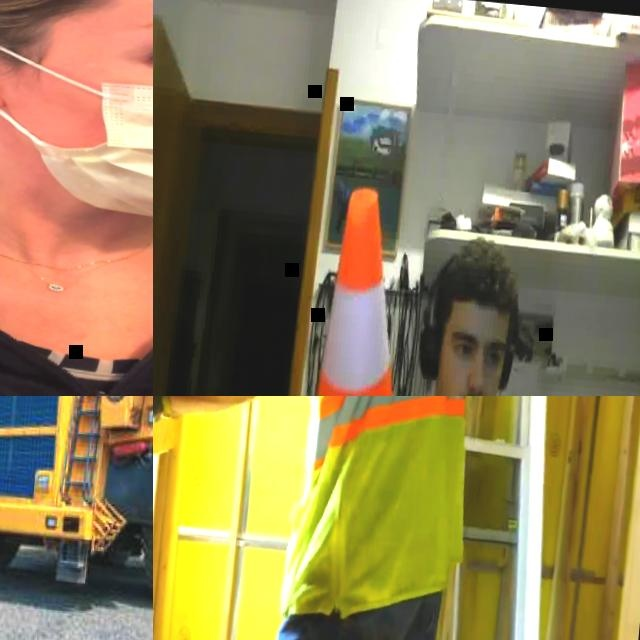Mask: (0, 25, 153, 231)
NO-Hardhat: (433, 230, 524, 316)
NO-Safety Vest: (0, 151, 153, 396)
Person: (153, 396, 486, 640), (262, 178, 600, 396), (0, 0, 153, 396)
Safety Cone: (268, 180, 439, 396)
Safety Vest: (231, 396, 499, 633)
machinery: (0, 396, 153, 614)
